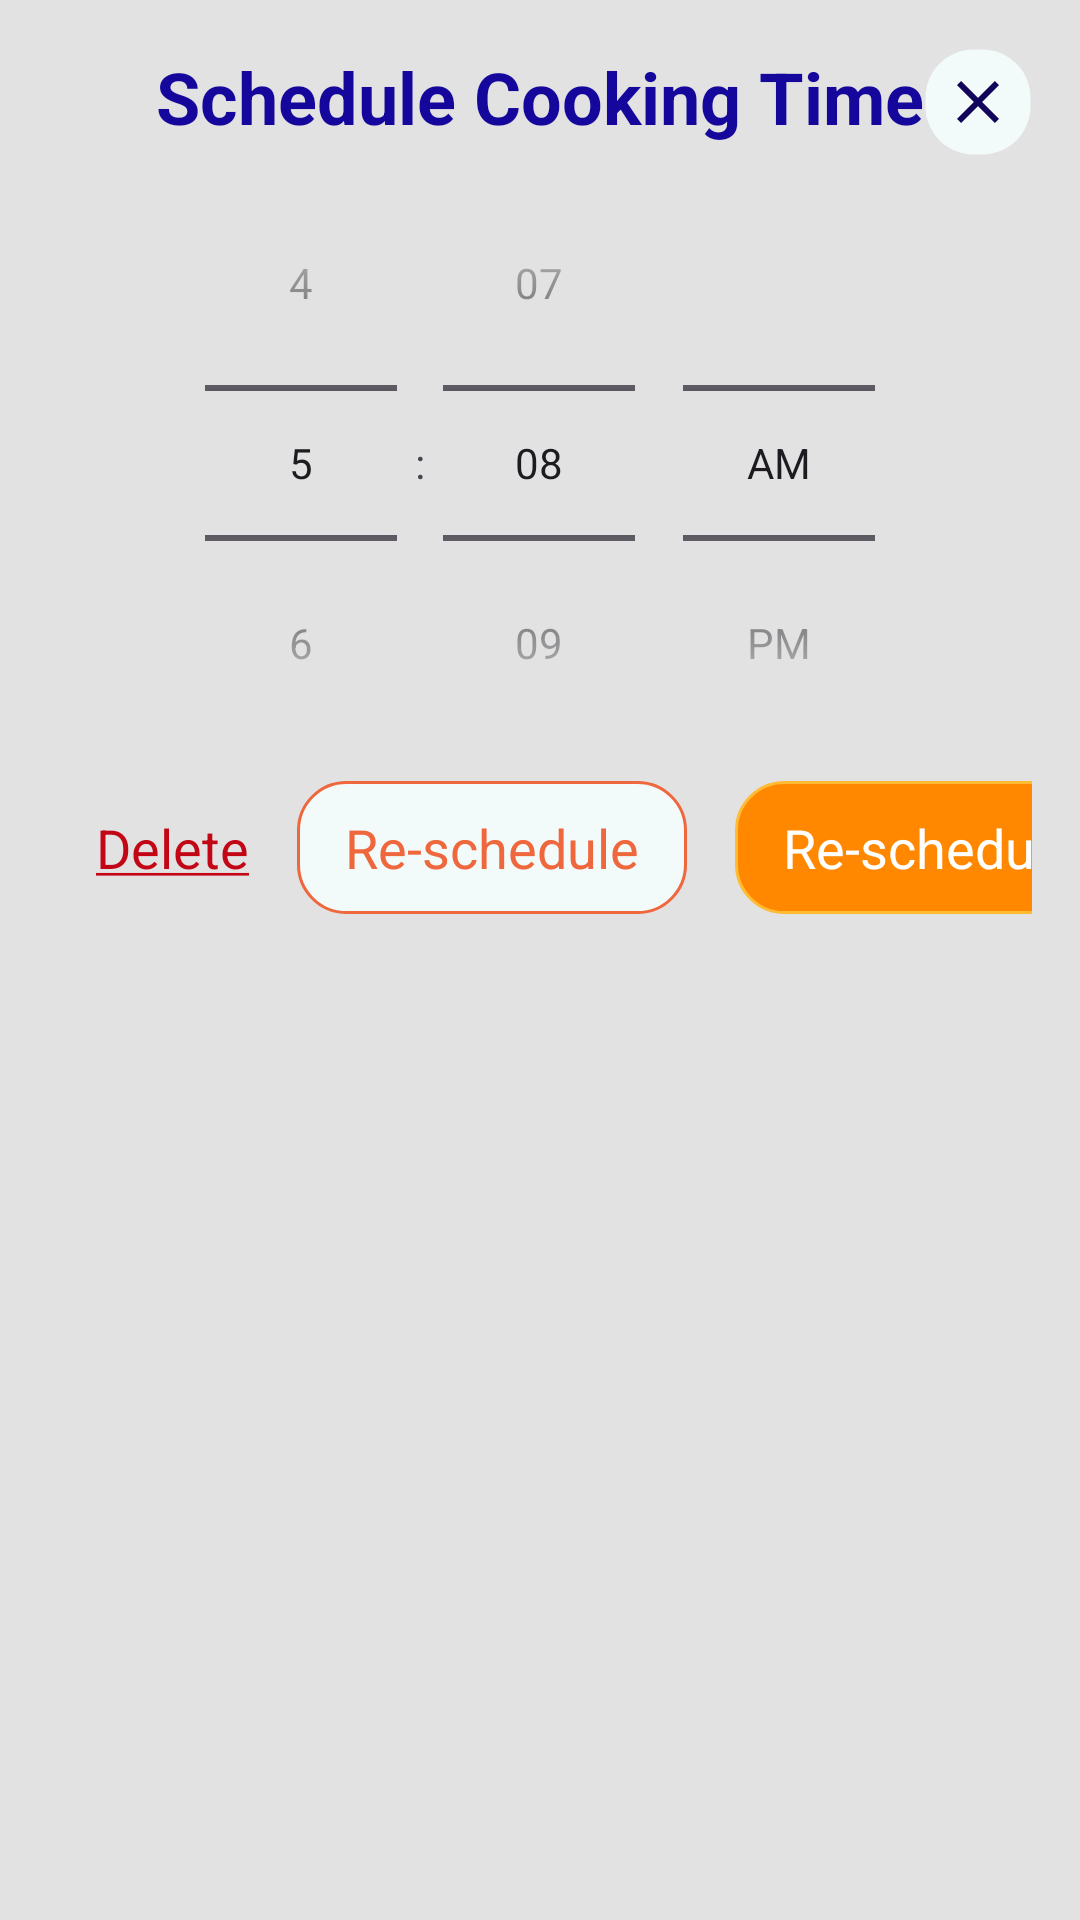

Locate icon controls on the screen. Image size 1080 × 1920, boxes as {"x1": x1, "y1": y1, "x2": x2, "y2": y2}.
close: {"x1": 925, "y1": 49, "x2": 1031, "y2": 155}
